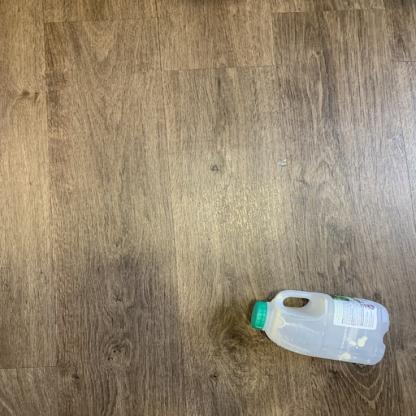trash: (247, 291, 392, 369)
